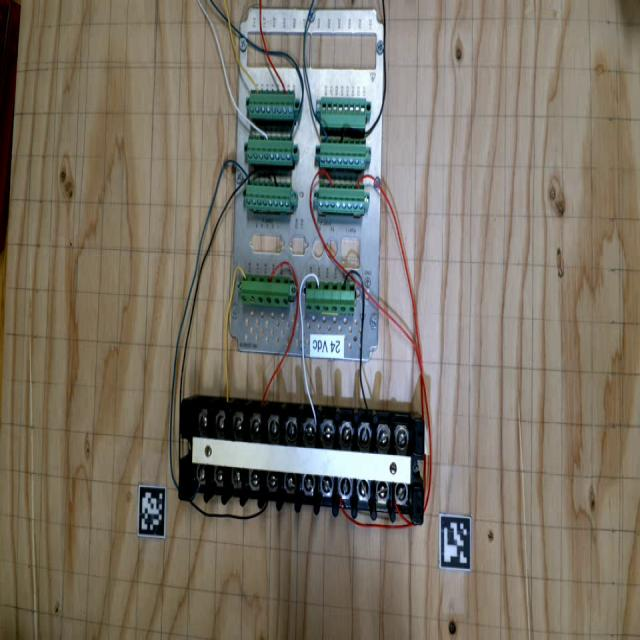Flathead_Block: (171, 395, 433, 524)
Terminal_1: (240, 274, 290, 307), (306, 281, 354, 314)
Terminal_2: (244, 179, 293, 212), (318, 182, 365, 214), (246, 133, 293, 165), (319, 138, 366, 169), (249, 89, 294, 119)
